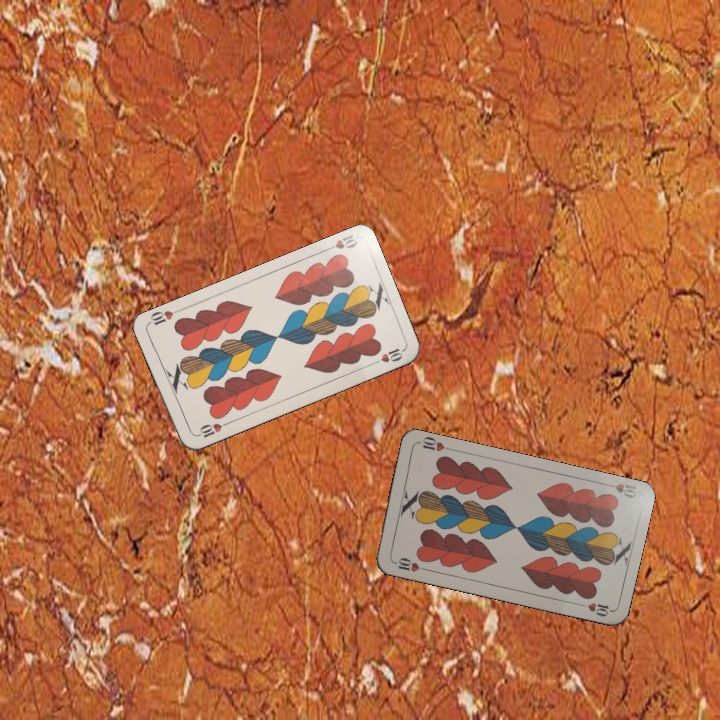H10: (320, 230, 360, 254), (600, 478, 639, 501), (388, 553, 429, 574), (192, 418, 231, 440)
